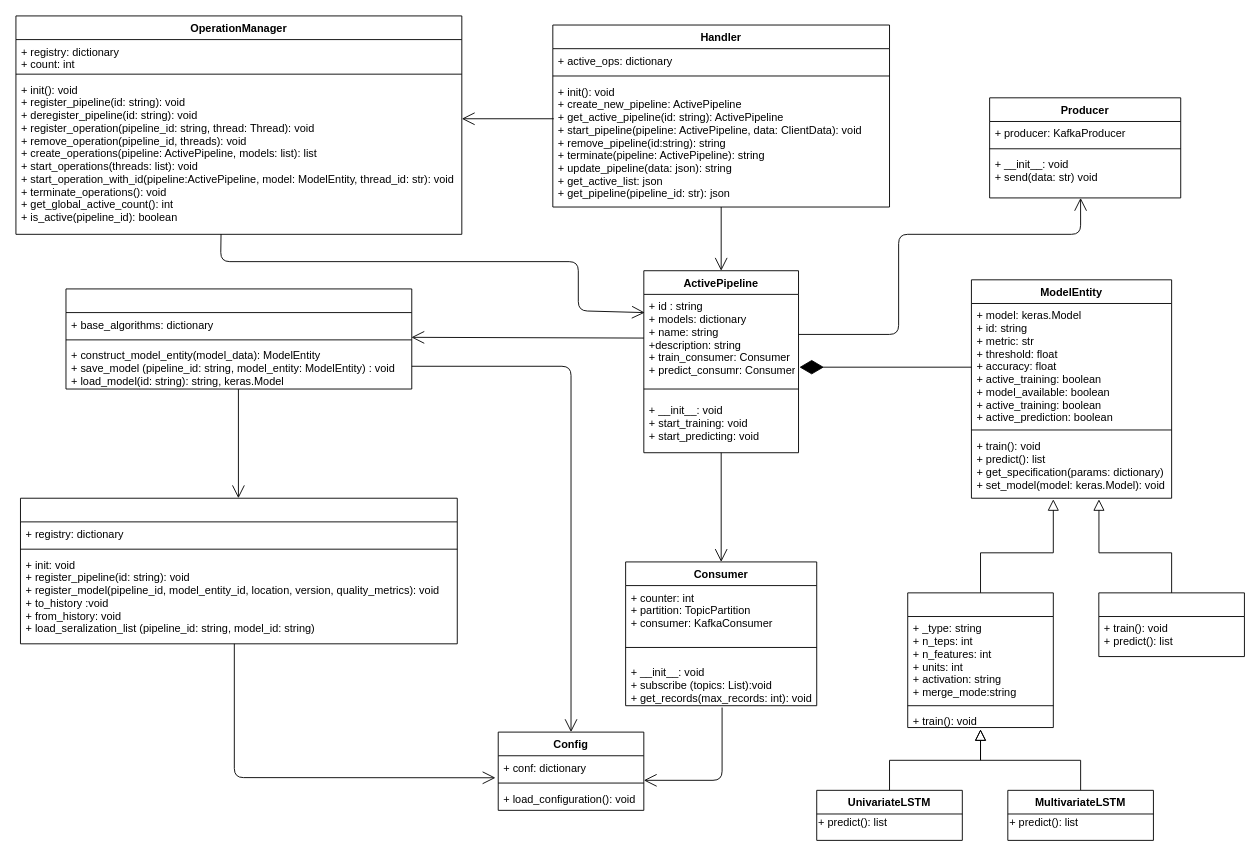
Image size: 1260x856. Some labels were removed from this diagram. The box of each missing label's shape, as (x1, y1, x2, y2) in pixels:
BaseARIMA: (1098, 592, 1244, 657)
BaseLSTM: (907, 592, 1053, 728)
ModelDescriptor: (20, 497, 457, 644)
ModelManager: (65, 288, 412, 389)
